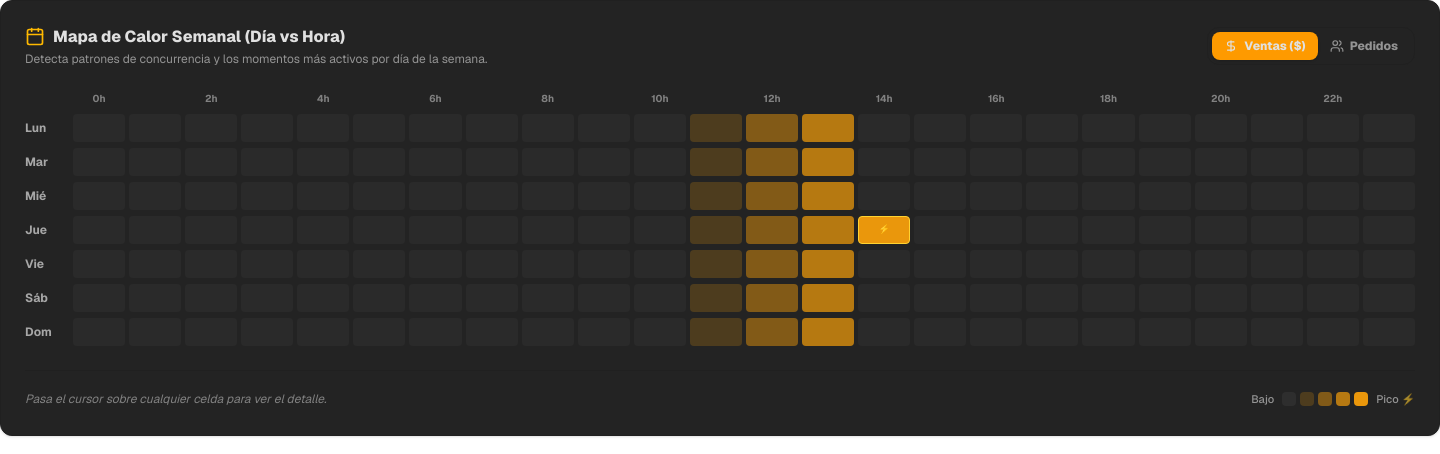
Test: HourlySalesHeatmap Component › should format average mode on hover
Hover over the element with test id "heatmap-cell-3-14" at point(884, 230), box 858,216 -> 910,244
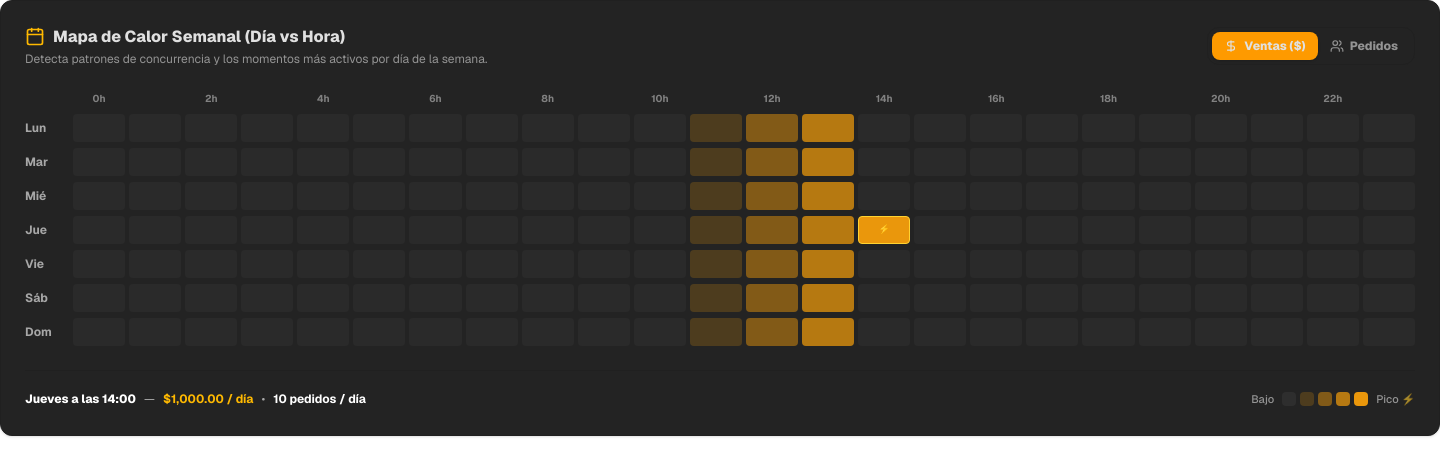
Expected: the text "$1,000.00 / día" is shown, 163,391 -> 254,407
Expected: the text "10 pedidos / día" is shown, 273,391 -> 366,407
